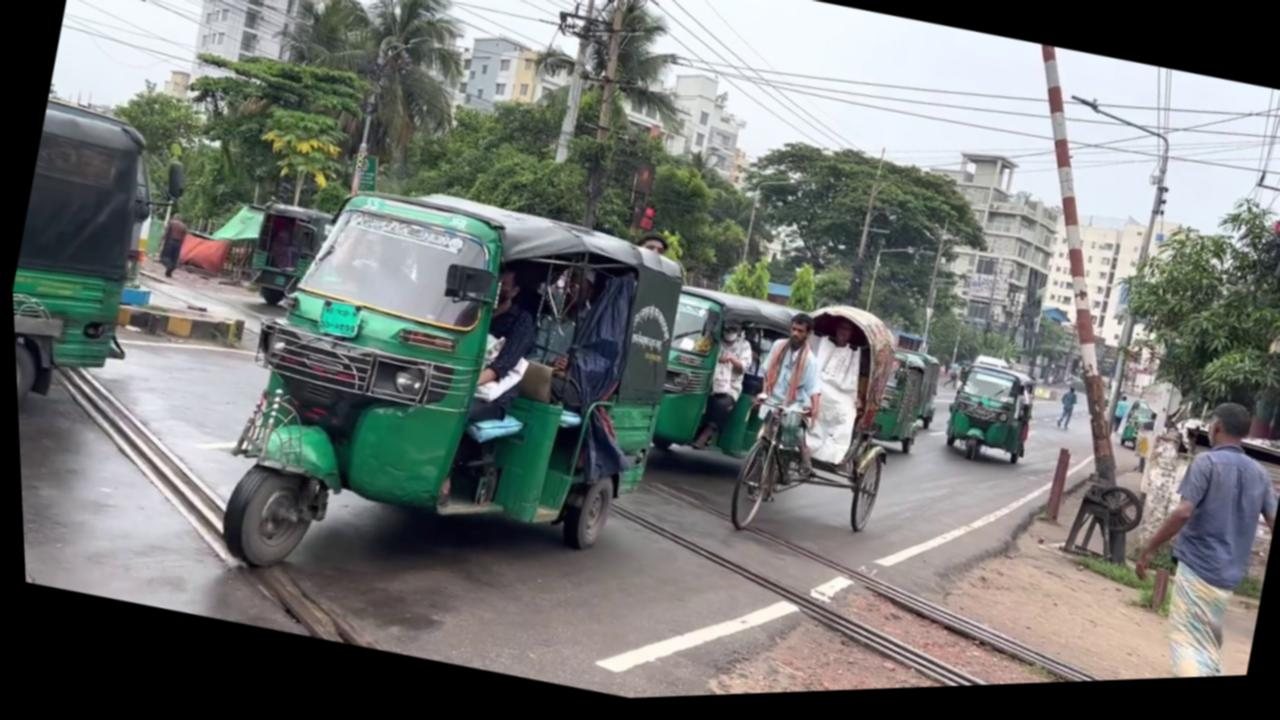Fence: (1083, 394, 1280, 689), (726, 311, 843, 511), (680, 318, 760, 462), (148, 210, 189, 280), (1050, 392, 1076, 438), (632, 232, 668, 261)
Garbage: (927, 47, 1230, 576)
Motorcycle: (602, 463, 1256, 703)
Railroad-crossing: (492, 0, 718, 252), (240, 0, 489, 216)
Rickshaw: (190, 152, 704, 652), (3, 91, 204, 442), (237, 197, 337, 317)
